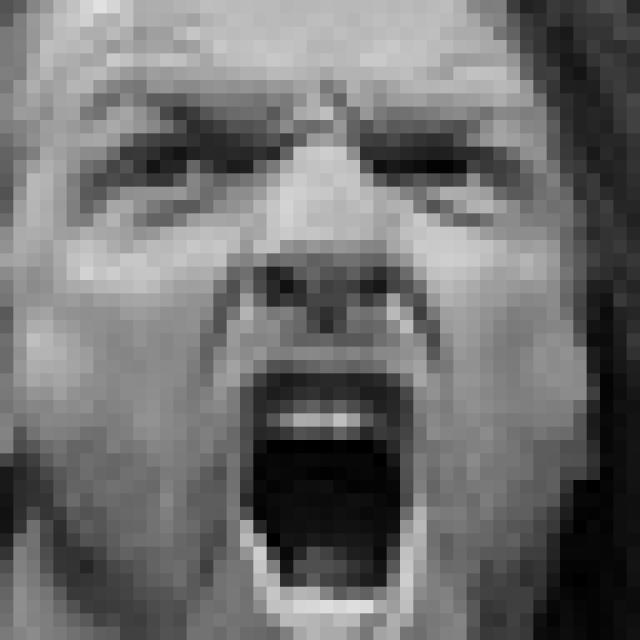angry: (74, 80, 552, 640)
